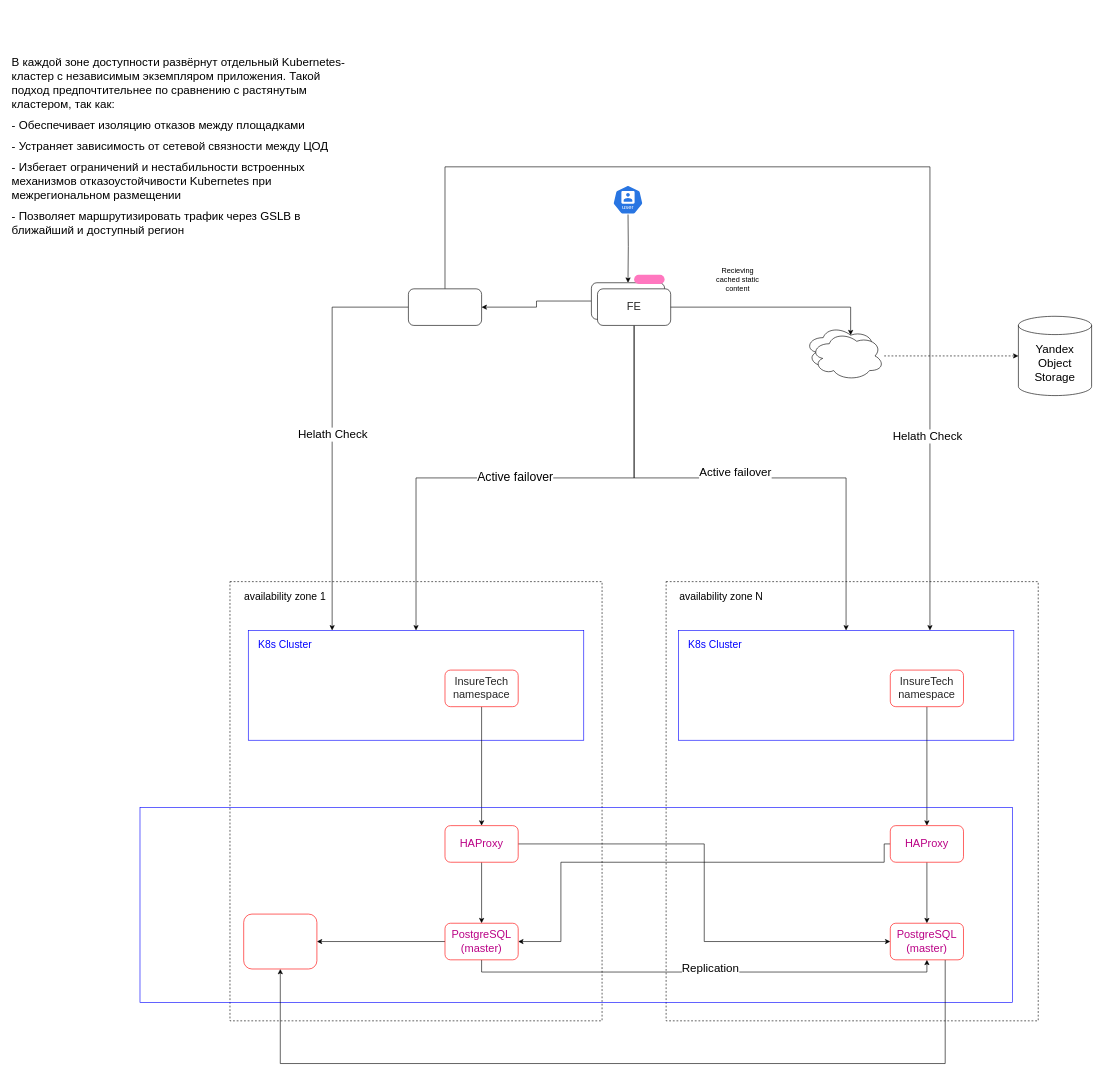
Image size: 1102x1079. Some labels were removed from this diagram. Here are the shapes that lost their labels. From the top down, the box of each, then its label:
(634, 274, 664, 284): React/Nginx
(408, 288, 482, 325): GSLB
(810, 331, 884, 380): Yandex CDN
(139, 807, 1012, 1003): Patroni Cluster
(243, 913, 317, 969): pgBackRest Backup Server
